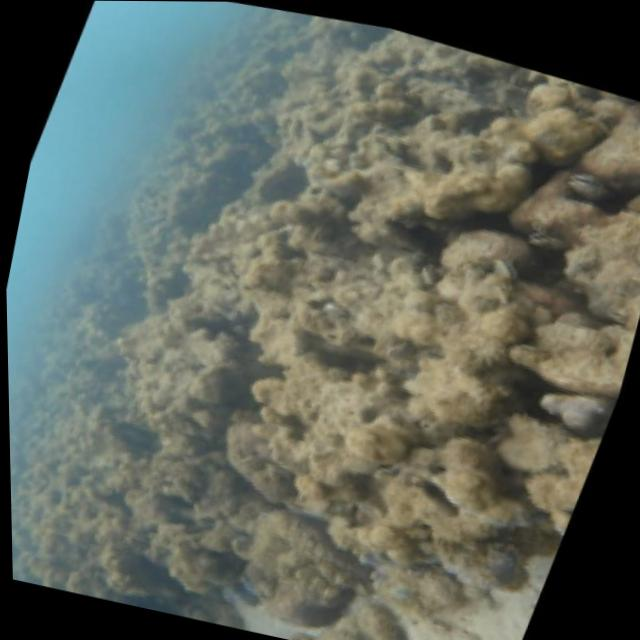Dead Coral: (280, 28, 608, 318), (189, 258, 485, 564), (364, 356, 622, 640), (441, 80, 640, 432), (67, 237, 298, 491), (188, 455, 406, 640), (7, 411, 180, 609)
